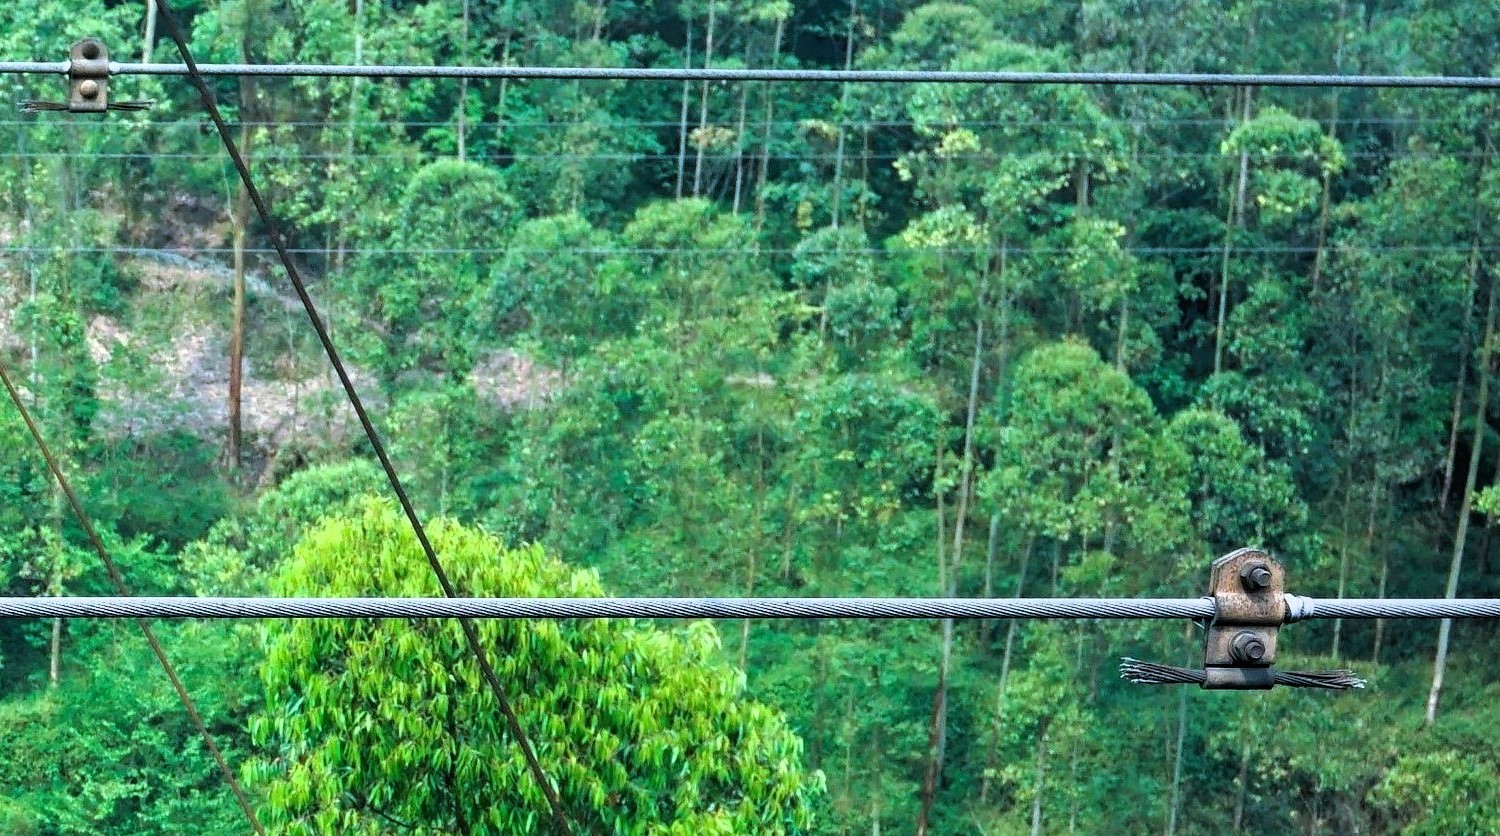Damage of shockproof hammer: (1086, 532, 1377, 711), (7, 26, 166, 138)
